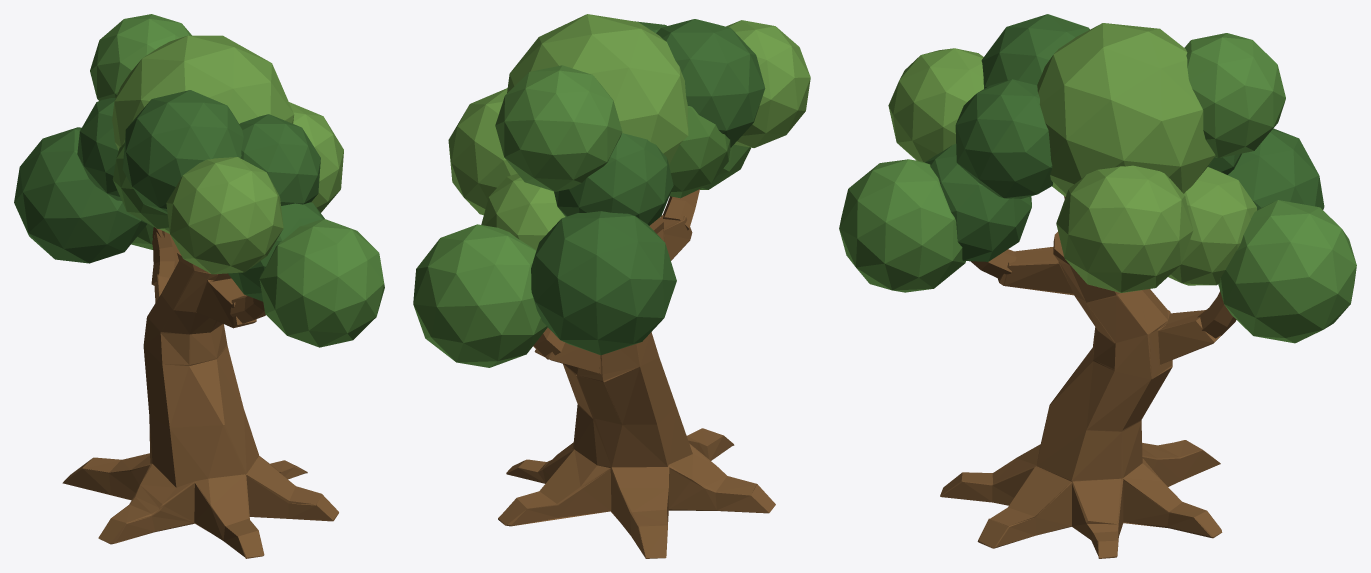
The model's file is mdvl_nature_oak_01.glb.
The picture shows the model from 3 angles, left to right: view 1: azimuth 30°, elevation 25°; view 2: azimuth 150°, elevation 25°; view 3: azimuth 270°, elevation 25°; orthographic projection. The views are drawn at different scales.
Visible parts, largest first — view 1: mdvl_nature_oak_01; view 2: mdvl_nature_oak_01; view 3: mdvl_nature_oak_01.
Boxes of the visible parts, bbox=[...] form: mdvl_nature_oak_01: bbox=[14, 14, 384, 558]; mdvl_nature_oak_01: bbox=[413, 14, 810, 558]; mdvl_nature_oak_01: bbox=[839, 14, 1356, 558].
Bounding box in the file's own units: 2.69 × 4.32 × 4.25.
1 material, 1 textured.
